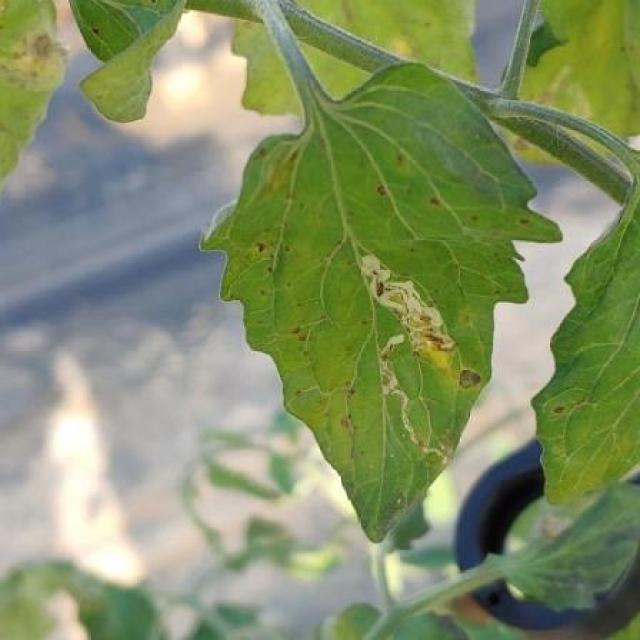Leaf Miner: (196, 60, 565, 546)
